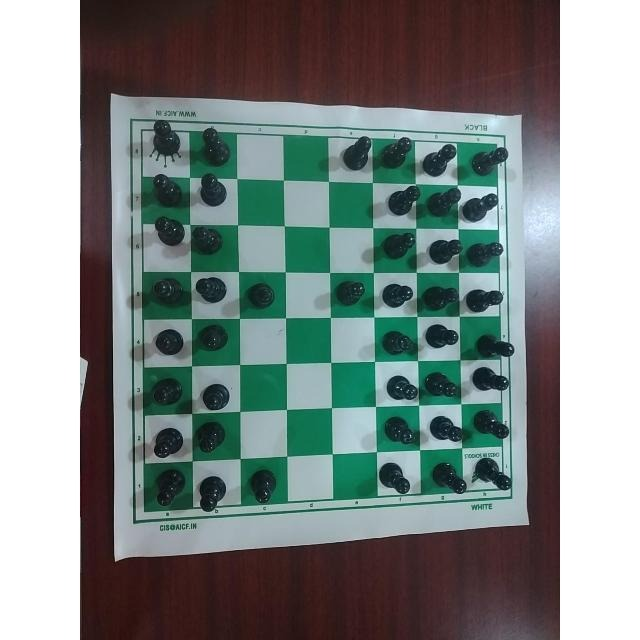black-pawn: (193, 127, 233, 169), (149, 466, 188, 509), (428, 457, 468, 497), (473, 453, 513, 491), (469, 365, 513, 399), (381, 183, 422, 219), (197, 472, 230, 516), (194, 274, 234, 310), (376, 457, 412, 497), (425, 412, 465, 448), (472, 409, 512, 445), (147, 119, 182, 160), (146, 274, 188, 307), (150, 424, 186, 462), (376, 137, 414, 173), (424, 235, 461, 271), (469, 145, 508, 179), (149, 172, 185, 208), (421, 141, 457, 177), (378, 226, 415, 261), (193, 324, 231, 358), (247, 467, 281, 505), (380, 321, 414, 359), (422, 320, 460, 354), (336, 135, 371, 171), (462, 285, 507, 313), (471, 332, 516, 360), (193, 419, 226, 457), (466, 235, 505, 267), (191, 223, 226, 258), (149, 325, 185, 359), (384, 413, 418, 449), (334, 275, 368, 310), (464, 189, 498, 224), (379, 278, 414, 312), (150, 374, 184, 408), (426, 185, 461, 218), (421, 283, 457, 315), (422, 368, 458, 400), (196, 173, 229, 206), (151, 214, 185, 246), (384, 370, 416, 404), (246, 280, 278, 313), (195, 381, 231, 410)
